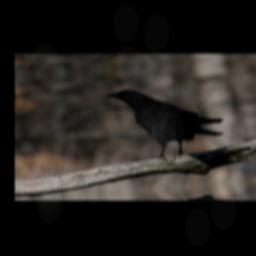Crow: (102, 80, 230, 167)
